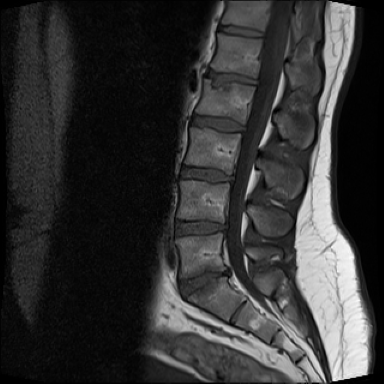Degenerative Disc Disease (DDD): (198, 64, 263, 91)
Lumbar Disc Bulge (LDB): (171, 263, 235, 304)
Normal IVD: (169, 215, 233, 243), (178, 162, 238, 189), (185, 111, 249, 136), (214, 22, 267, 42)
Spinal Stenosis (SS): (217, 261, 237, 286)
